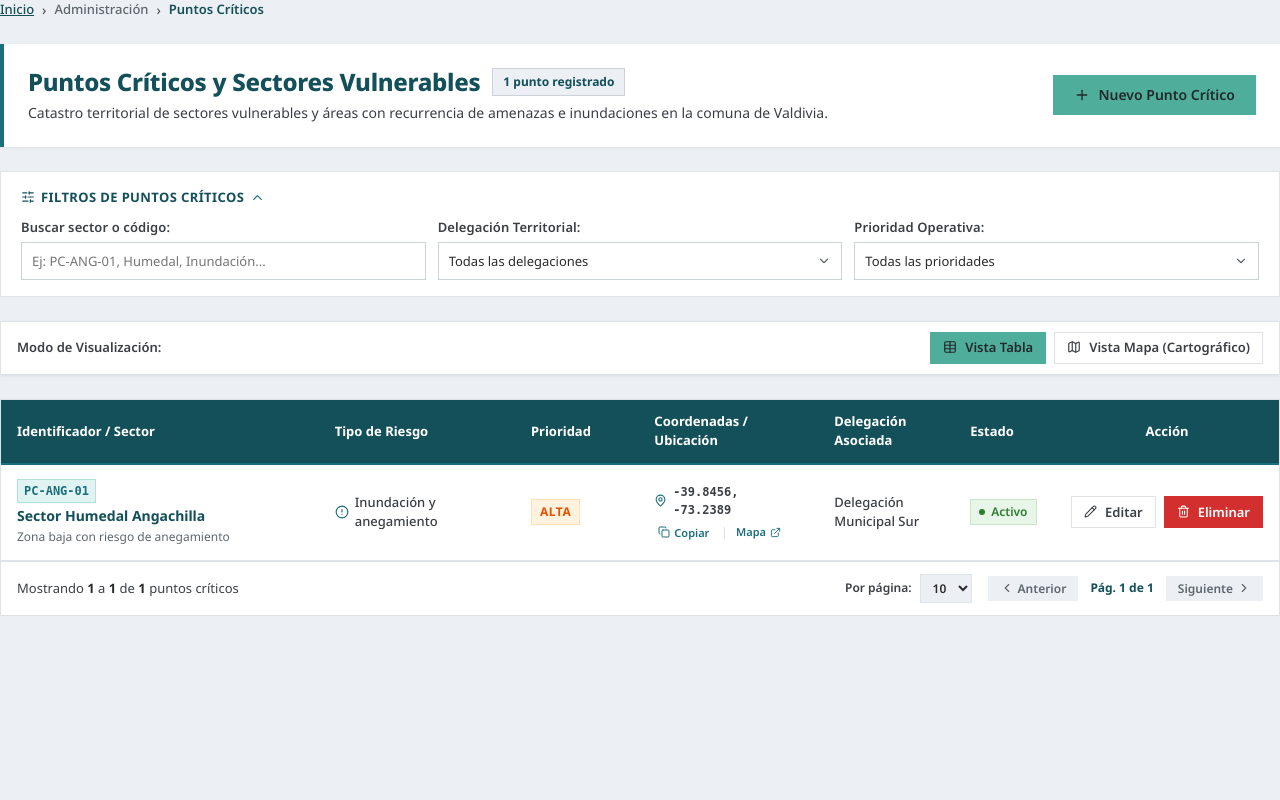
Scenario: PuntosCriticosPage - RBAC y Renderizado (CA-1, CA-4) › Interacción de Eliminación y Modos de Vista (HU-56) › debe abrir el modal de confirmación al hacer clic en Eliminar desde la tabla
This screenshot has width=1280, height=800.
Click the button "Eliminar". click: {"x": 1213, "y": 512}
box: top-left (1164, 496), bottom-right (1263, 528)
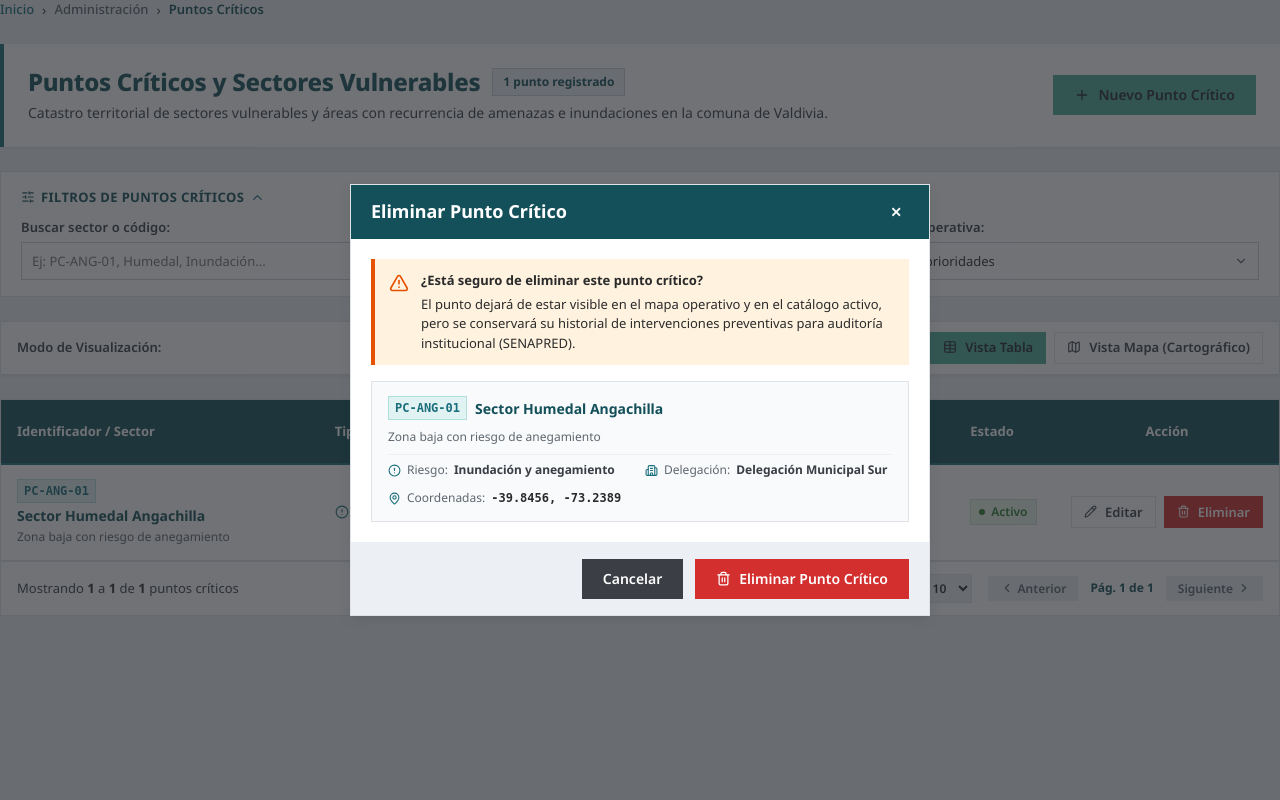
Now the text "¿Está seguro de eliminar este punto crítico?" is shown, box top-left (421, 271), bottom-right (703, 289)
Now the heading "Eliminar Punto Crítico" is shown, box top-left (371, 201), bottom-right (567, 223)
